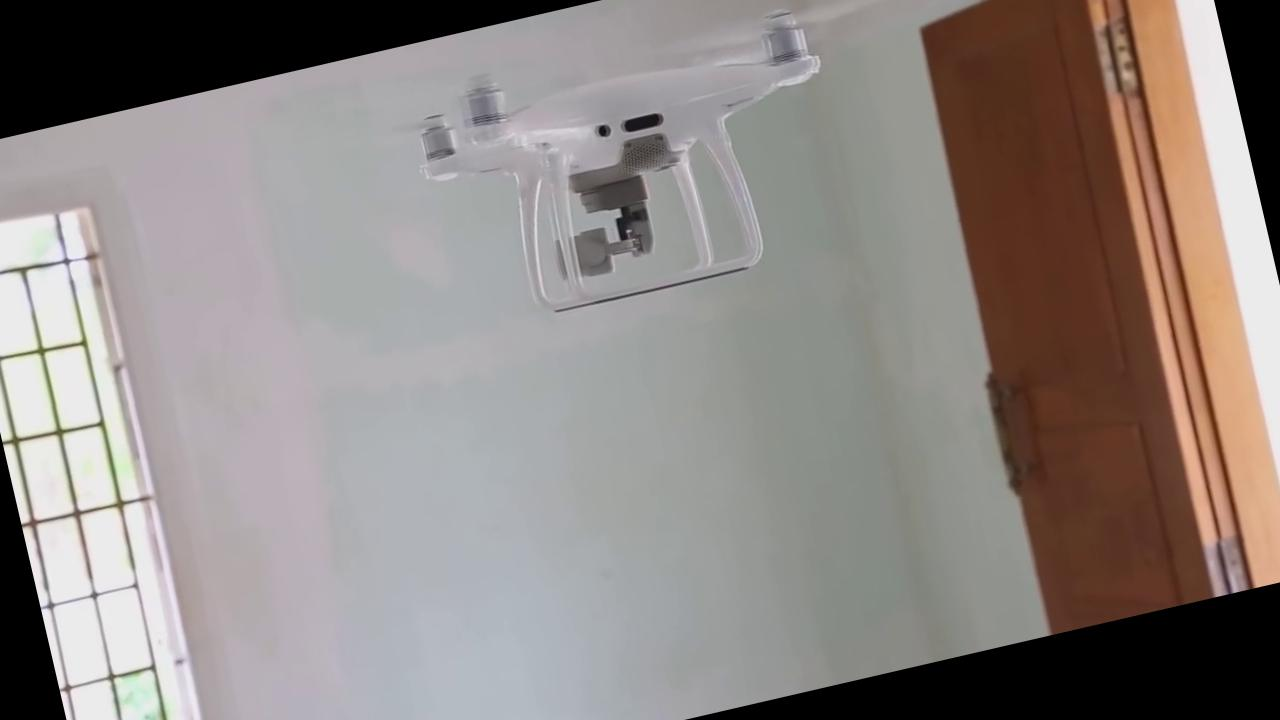drone: (342, 0, 935, 371)
